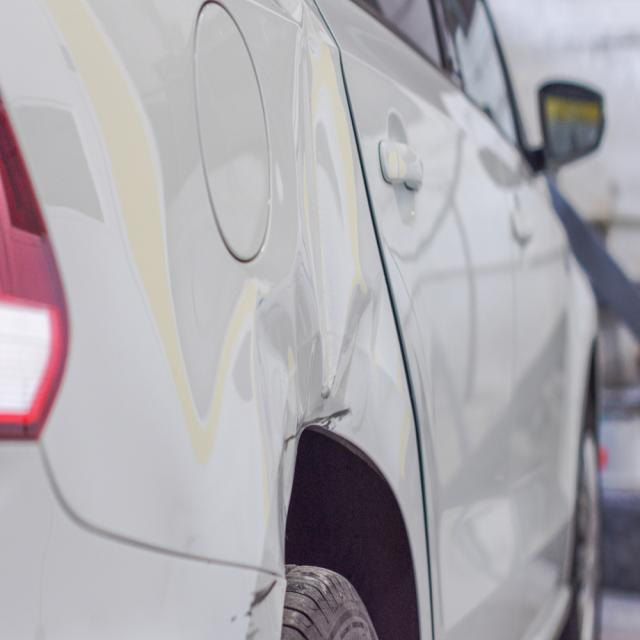dent: (255, 4, 375, 542)
